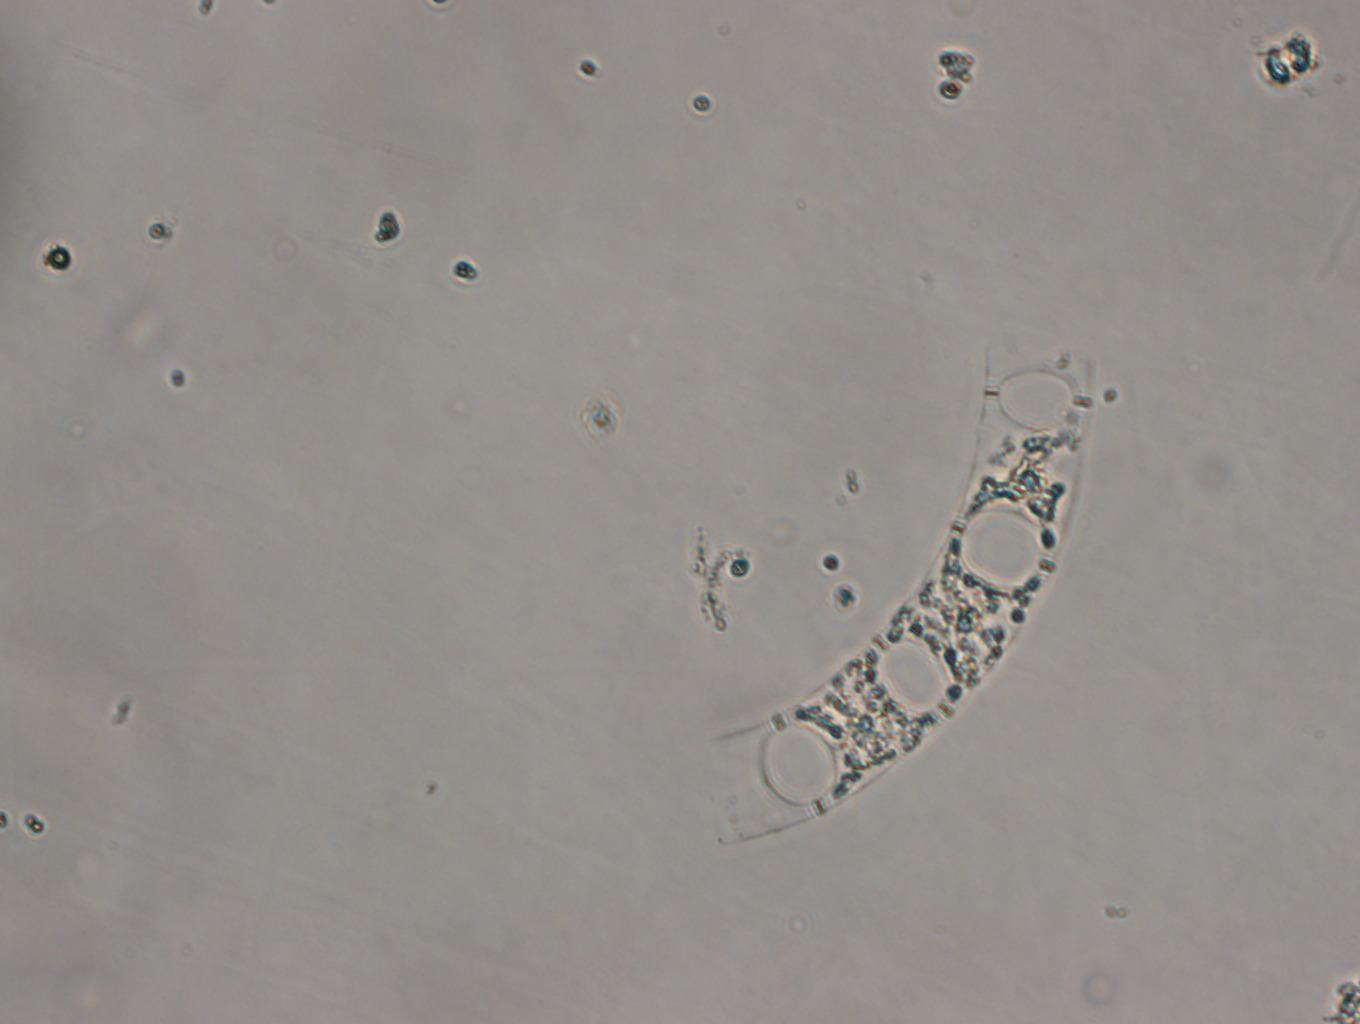eucampia: (697, 359, 1093, 841)
